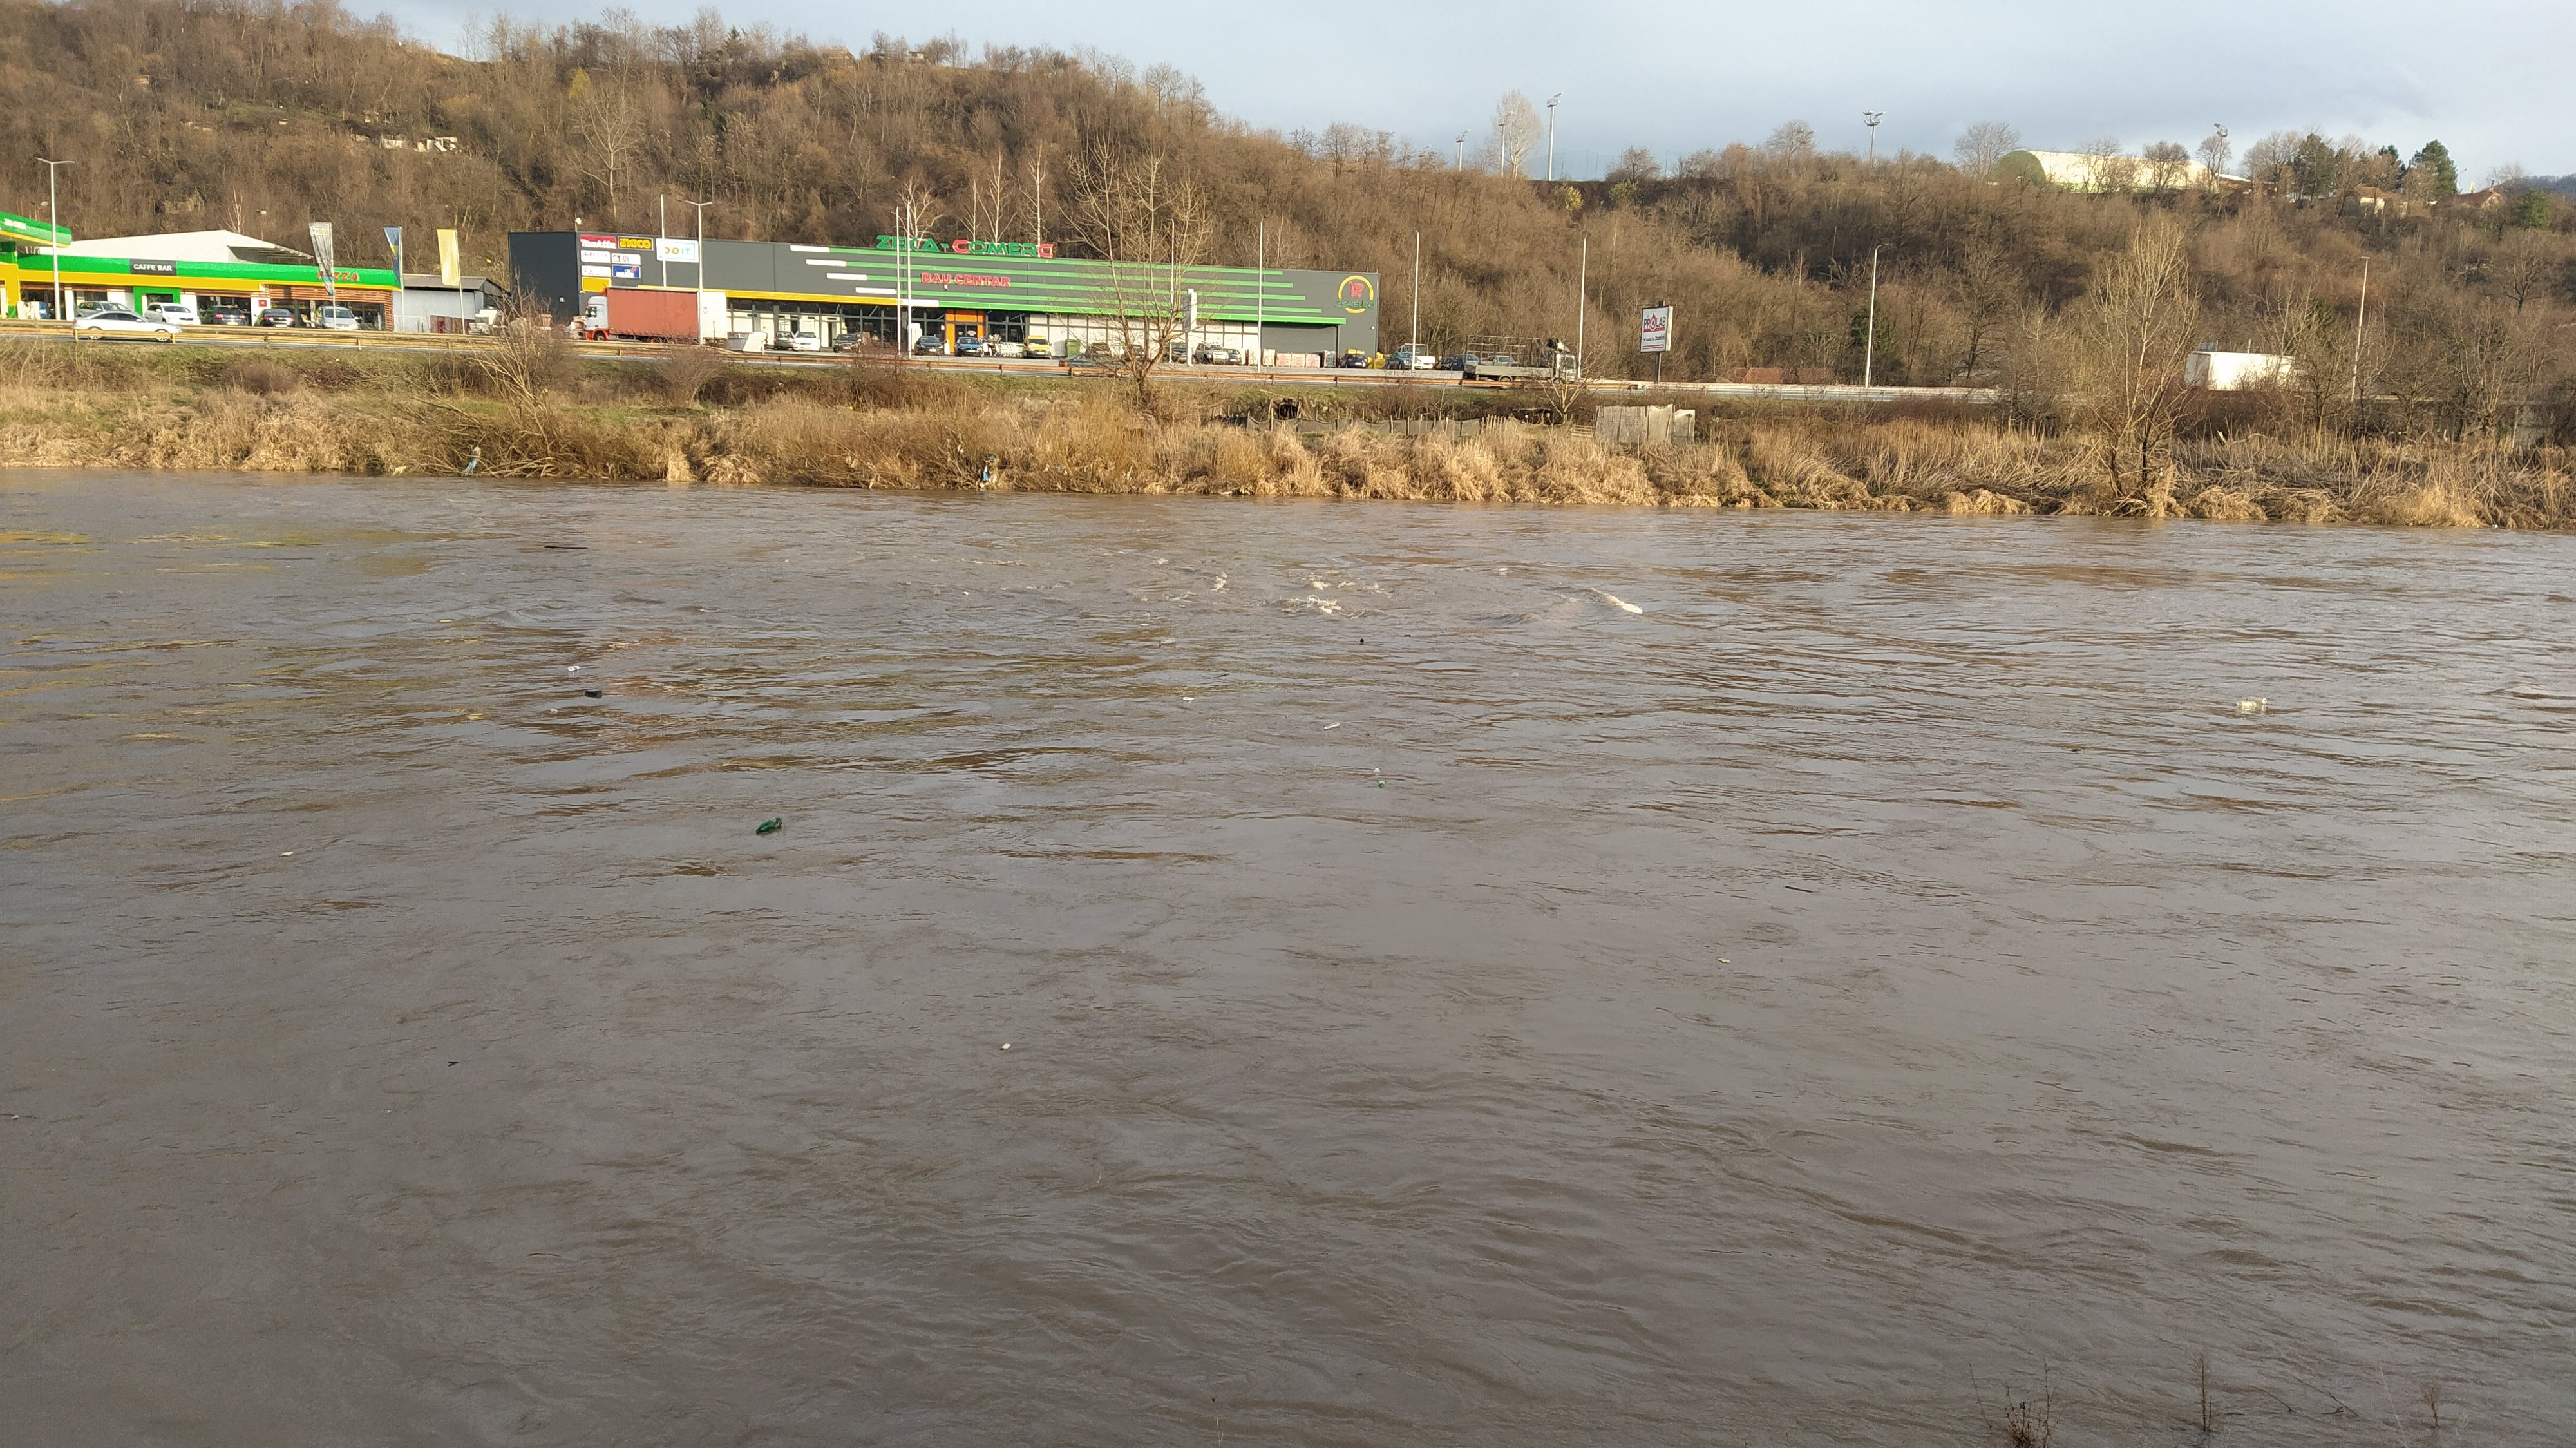Plastic Bottle: (755, 816, 782, 834), (2245, 696, 2266, 703), (2236, 701, 2256, 708), (1159, 637, 1177, 644), (586, 689, 602, 696), (1323, 722, 1339, 729), (897, 620, 911, 625), (568, 666, 580, 671), (1378, 777, 1384, 788), (932, 588, 939, 595), (1499, 566, 1507, 572), (1182, 697, 1192, 701), (1511, 673, 1516, 676), (2491, 524, 2496, 528)
